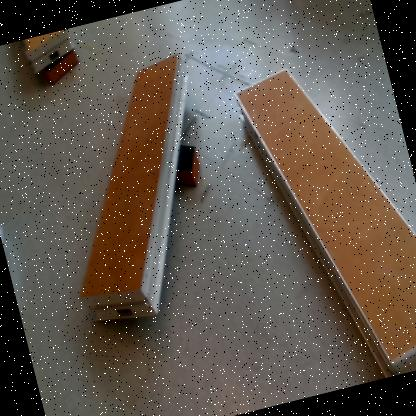Stairs: (237, 68, 416, 379), (81, 55, 187, 324), (21, 29, 80, 73)
